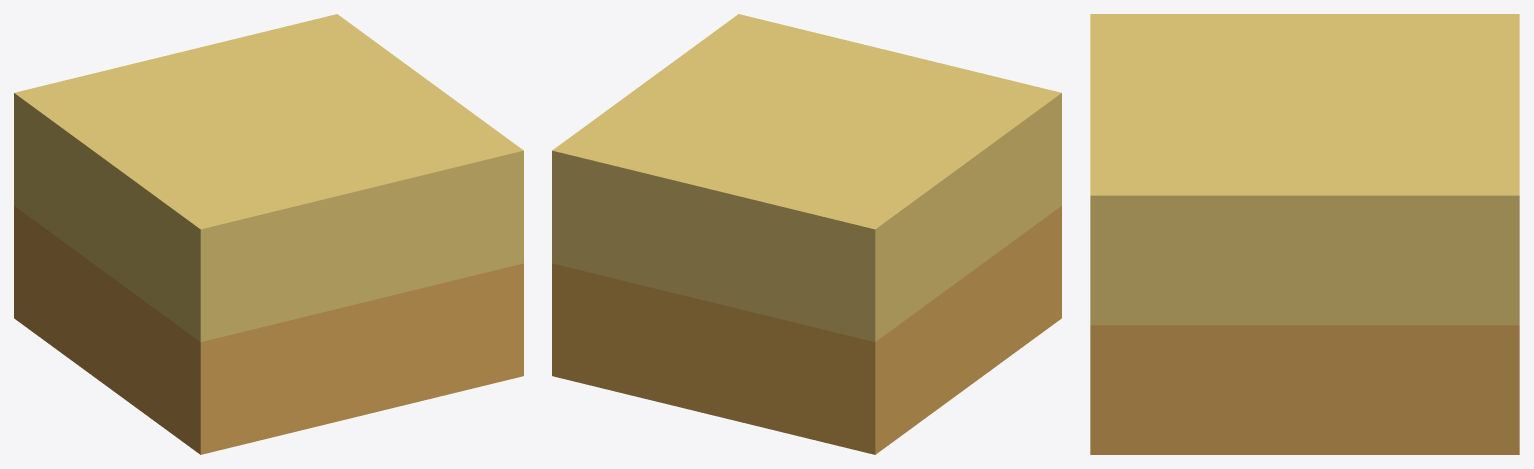
Rendered from Office_Misc_Notepad.gltf.
The picture shows the model from 3 angles, left to right: view 1: azimuth 30°, elevation 25°; view 2: azimuth 150°, elevation 25°; view 3: azimuth 270°, elevation 25°; orthographic projection. The views are drawn at different scales.
Parts seen in each view (by area): view 1: Node; view 2: Node; view 3: Node.
Boxes of the visible parts, <box> form: Node: <box>14,14,523,454</box>; Node: <box>552,14,1061,454</box>; Node: <box>1090,14,1519,454</box>.
Bounding box in the file's own units: 0.3 × 0.2 × 0.3.
Materials: 1 (1 with a texture image).
